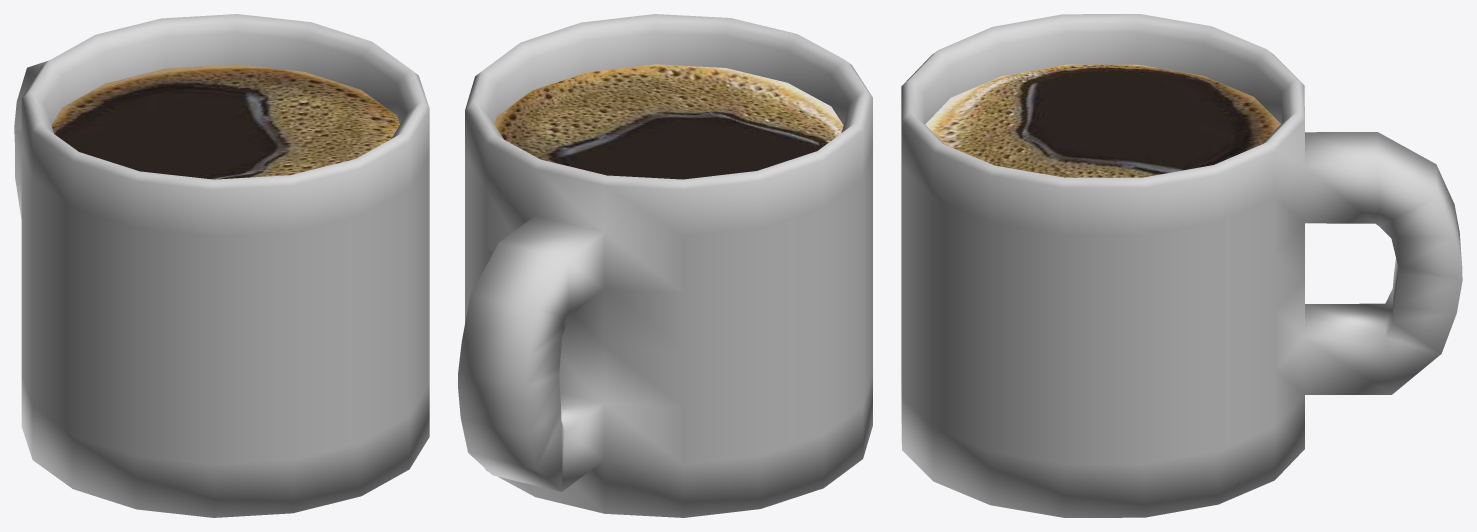
The model's file is coffee.glb.
3 renders of one model, left to right at view 1: azimuth 30°, elevation 25°; view 2: azimuth 150°, elevation 25°; view 3: azimuth 270°, elevation 25°, orthographic.
Visible parts, largest first — view 1: cup, Coffee; view 2: cup, Coffee; view 3: cup, Coffee.
Boxes of the visible parts, box(x1,y1,x2,y2) form: cup: box(14, 14, 429, 517); Coffee: box(51, 64, 399, 179); cup: box(458, 14, 872, 517); Coffee: box(494, 64, 843, 179); cup: box(901, 14, 1462, 517); Coffee: box(925, 64, 1280, 177).
Bounding box in the file's own units: 1.28 × 1.18 × 1.78.
Materials: 2 (1 with a texture image).
